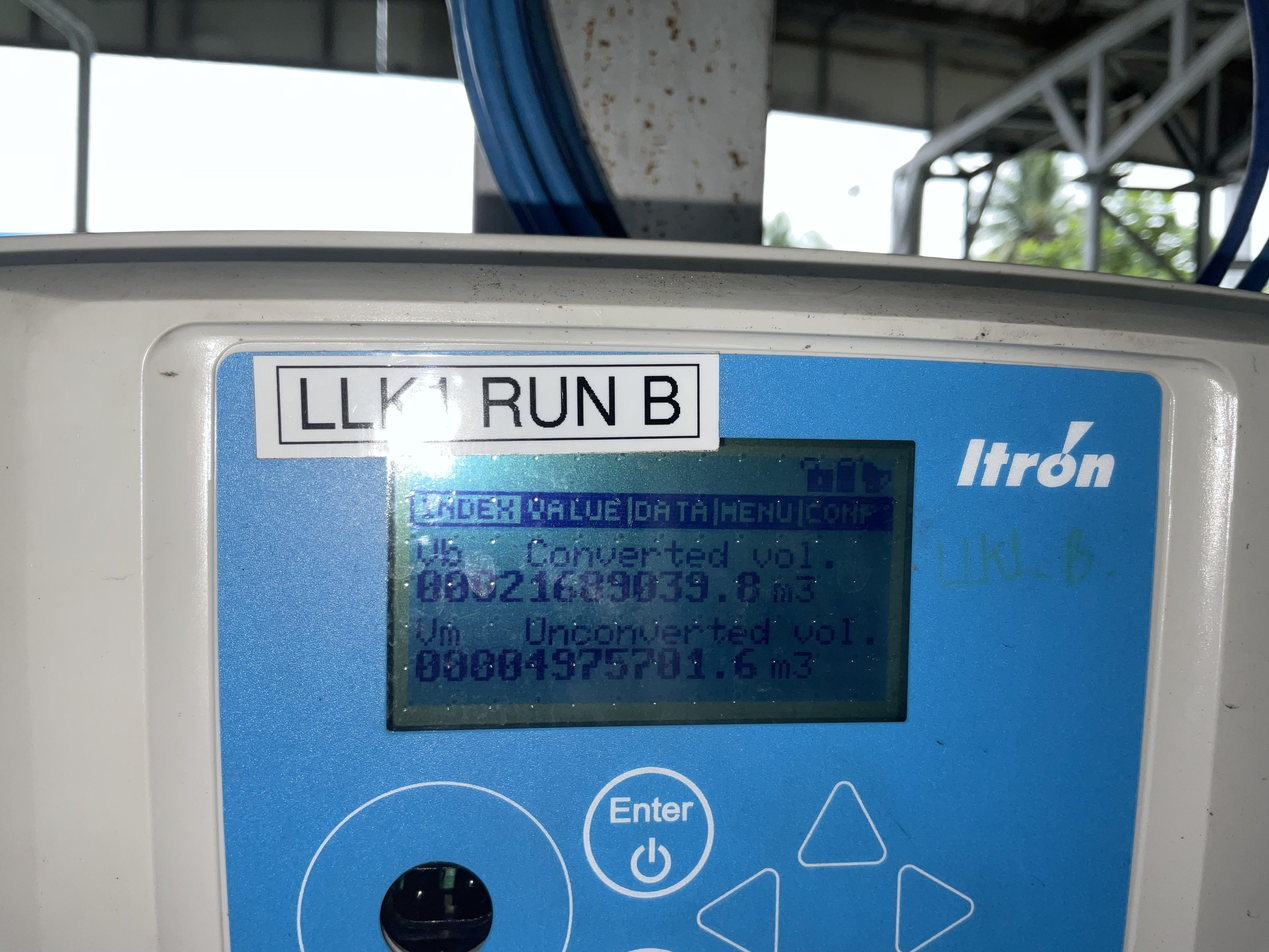digital_screen: (388, 436, 914, 737)
